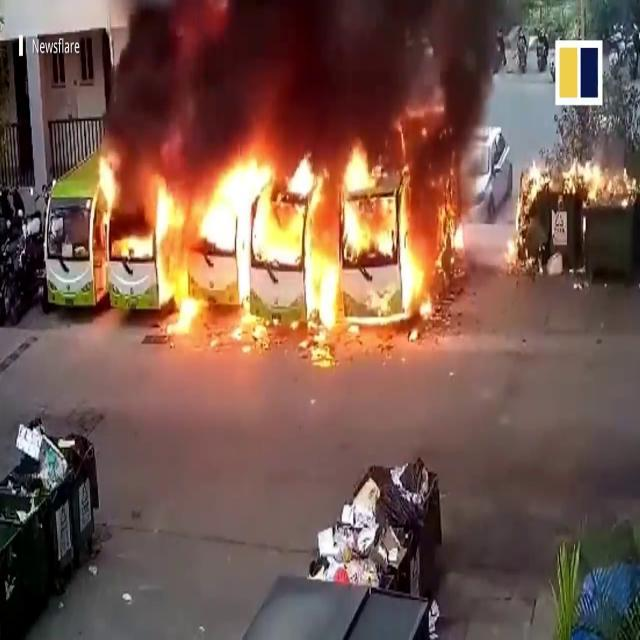Fire: (100, 132, 438, 338), (520, 150, 635, 216)
Smoke: (104, 0, 512, 164)
